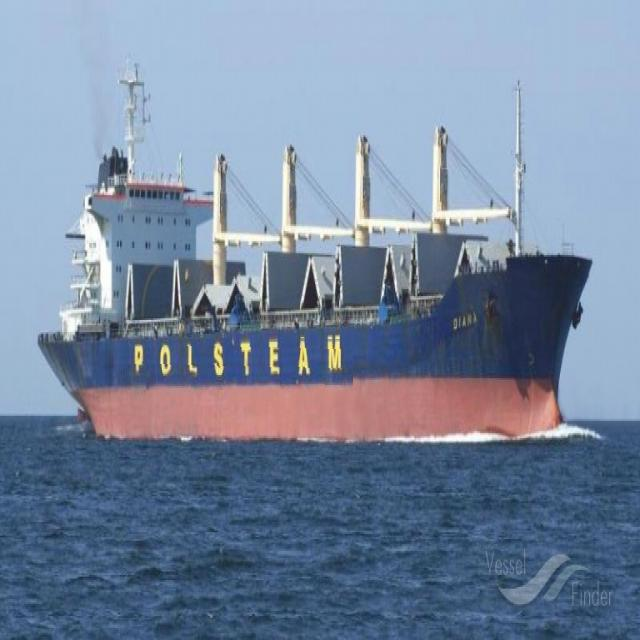OCR: (120, 334, 353, 390), (449, 303, 489, 340)
